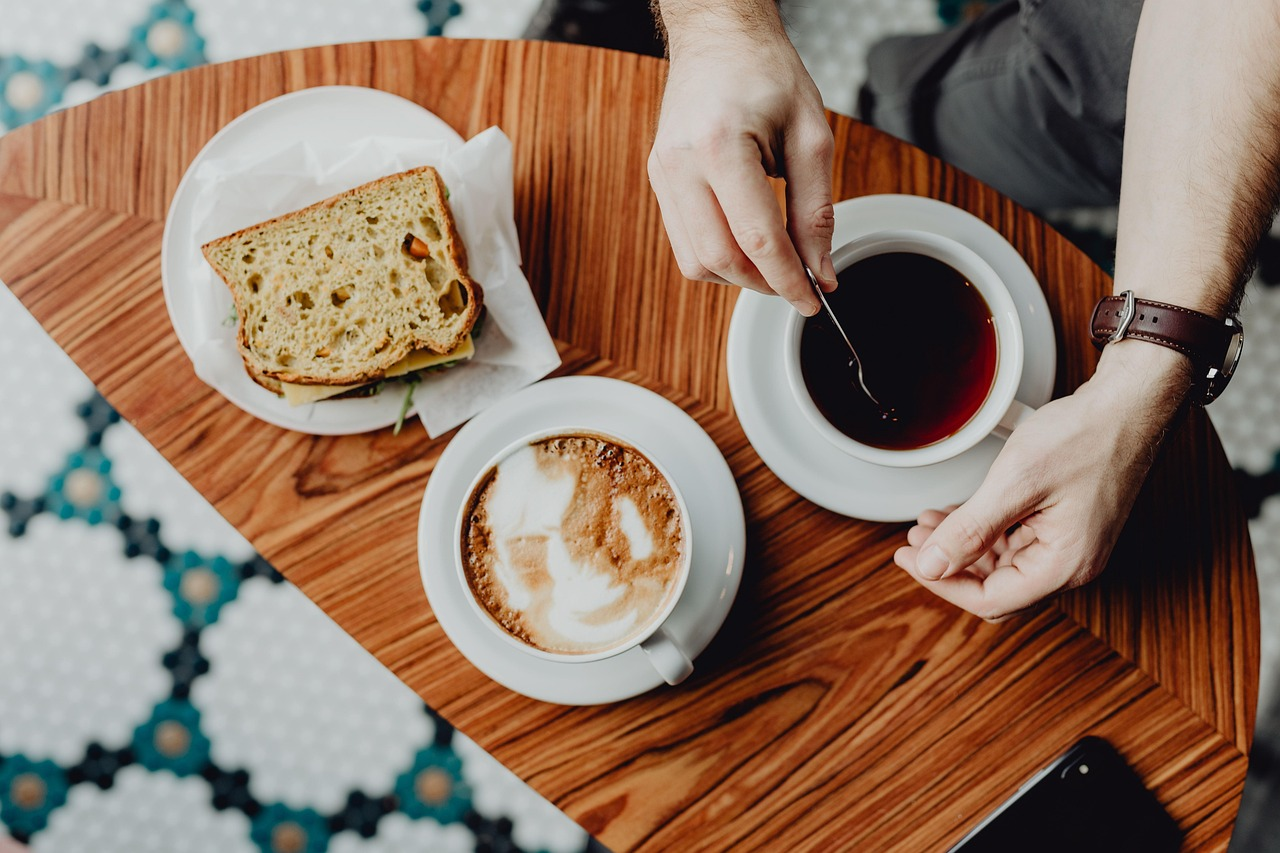mug: (468, 395, 704, 718)
